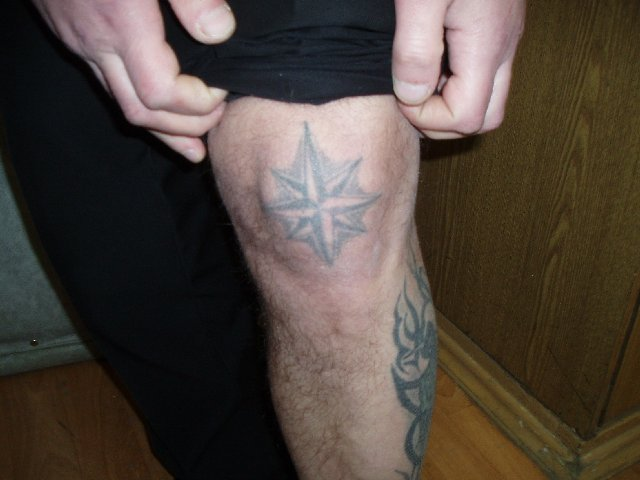tatu4_zvezda: (251, 120, 392, 271)
